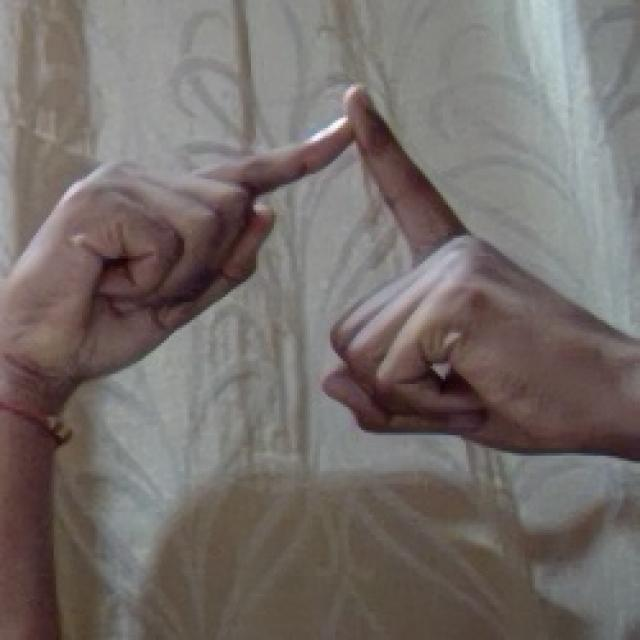Alphabet-E: (1, 87, 640, 640)
